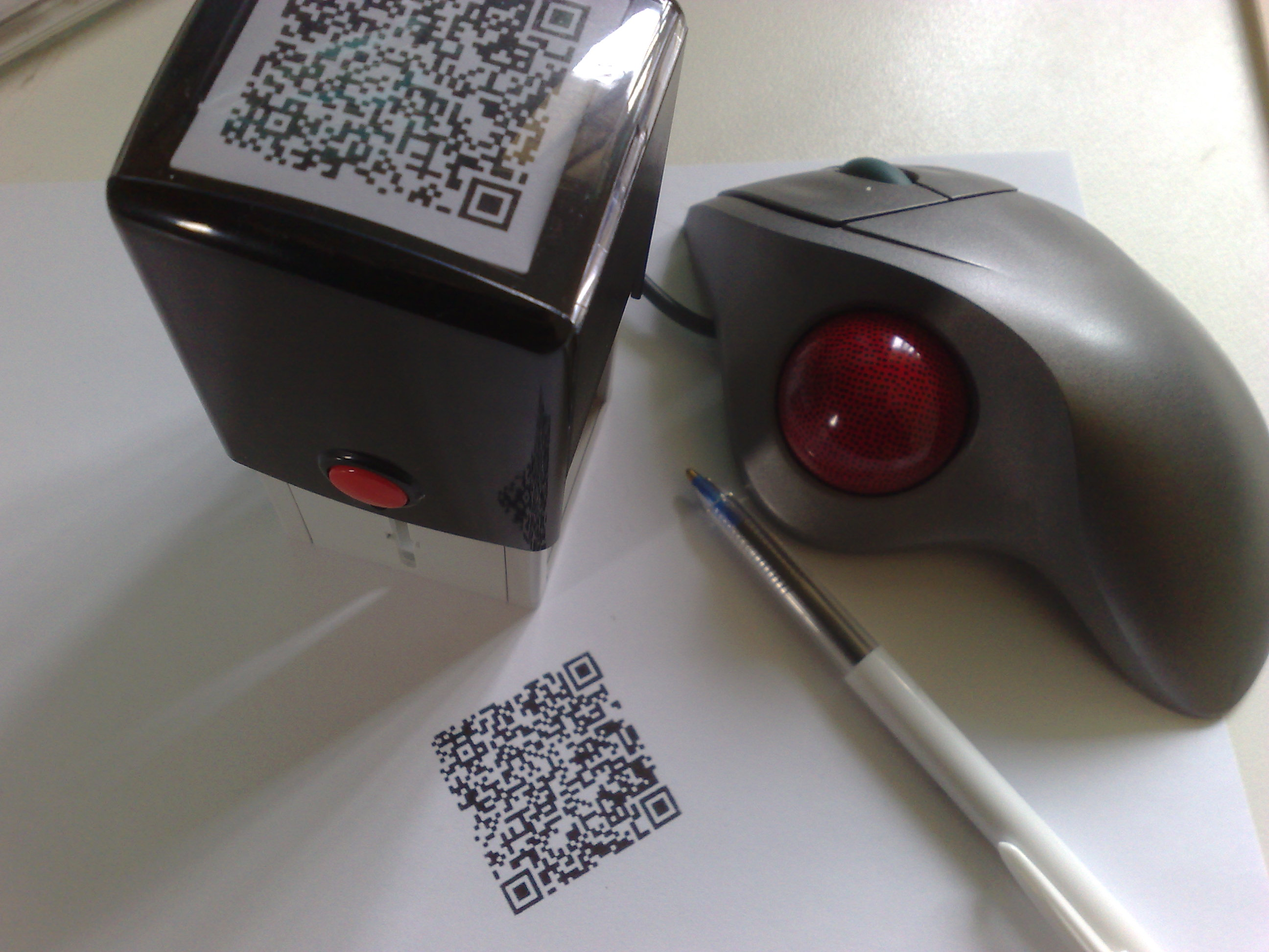QR-CODE: (219, 1, 591, 232), (431, 651, 682, 915)
